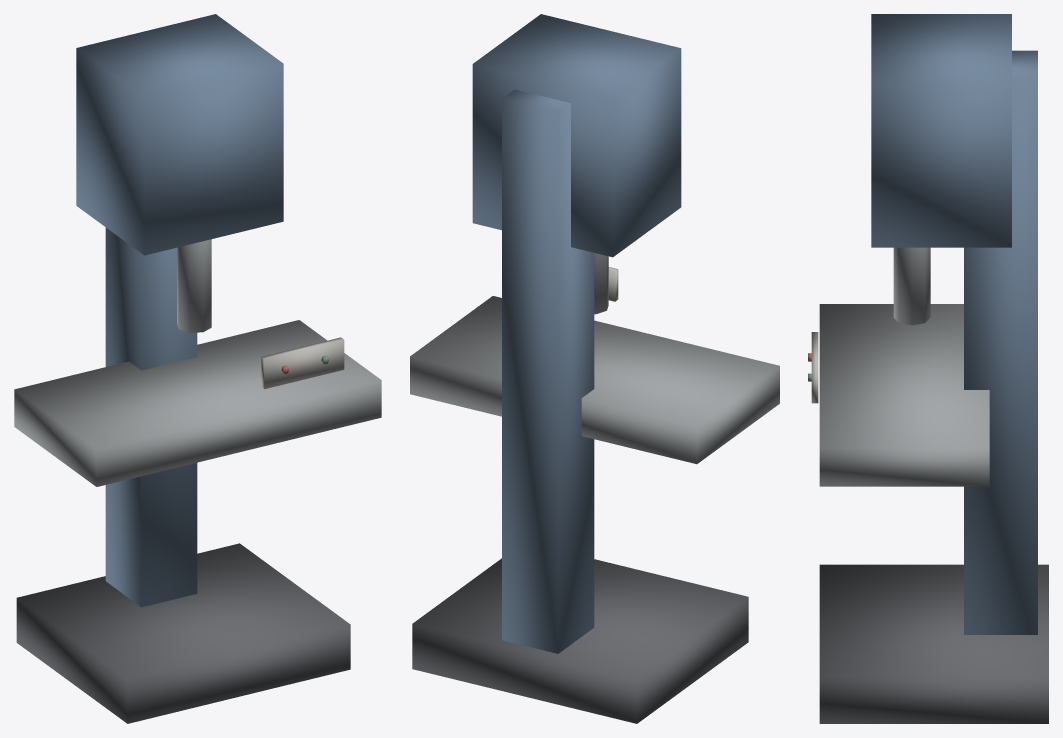
The model's file is milling_machine_silhouette__tall.glb.
3 renders of one model, left to right at view 1: azimuth 30°, elevation 25°; view 2: azimuth 150°, elevation 25°; view 3: azimuth 270°, elevation 25°, orthographic. The views are drawn at different scales.
Parts seen in each view (by area): view 1: world; view 2: world; view 3: world.
Boxes of the visible parts, bbox=[...] form: world: bbox=[14, 14, 381, 723]; world: bbox=[410, 14, 779, 723]; world: bbox=[808, 14, 1048, 723].
Bounding box in the file's own units: 0.92 × 1.84 × 0.651.
